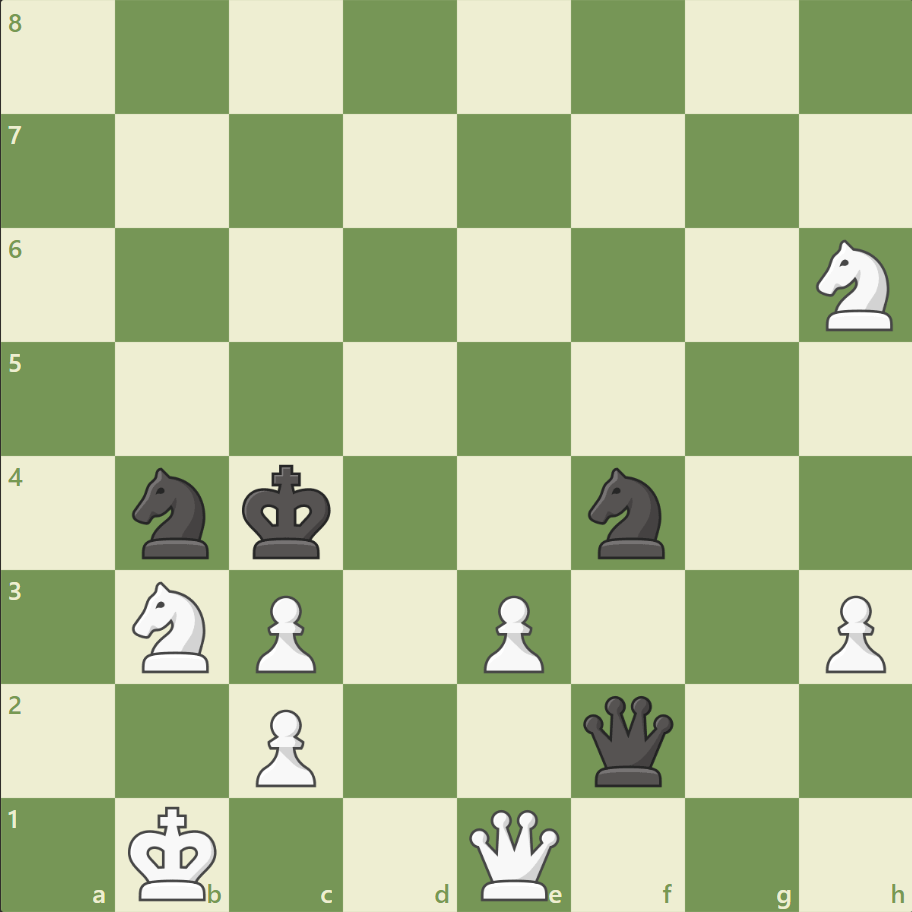K: (124, 798, 224, 906)
N: (124, 575, 222, 677), (806, 234, 903, 337)
P: (247, 586, 322, 677), (474, 586, 549, 677), (247, 700, 322, 791), (815, 586, 889, 677)
Q: (464, 804, 563, 903)
k: (238, 458, 338, 566)
n: (124, 461, 222, 564), (579, 461, 676, 564)
q: (578, 690, 677, 789)
